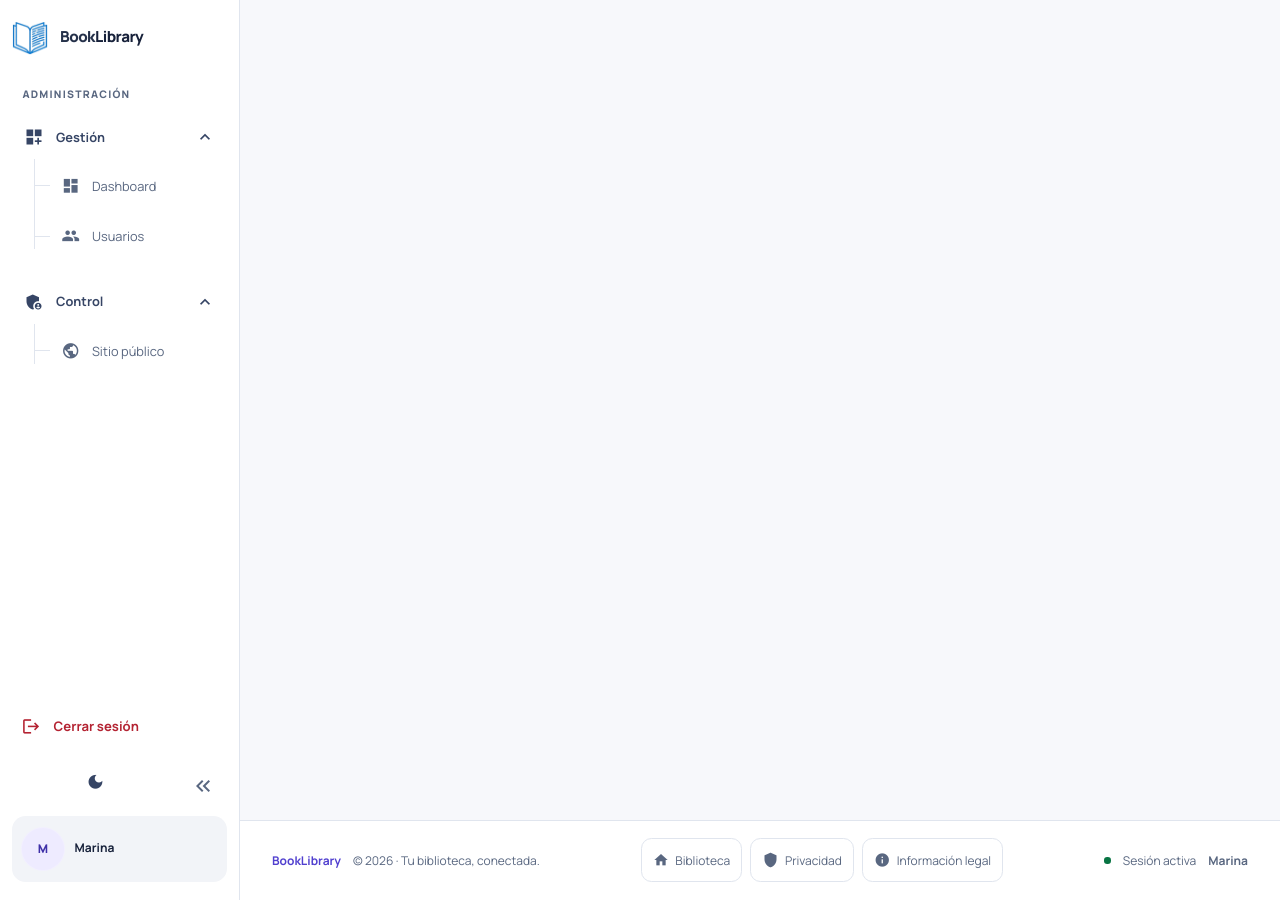
WorkspaceShellComponent › cancels logout without ending the session
Click the button with aria-label "Cerrar sesión".
click(120, 726)  # box [12,704,227,748]
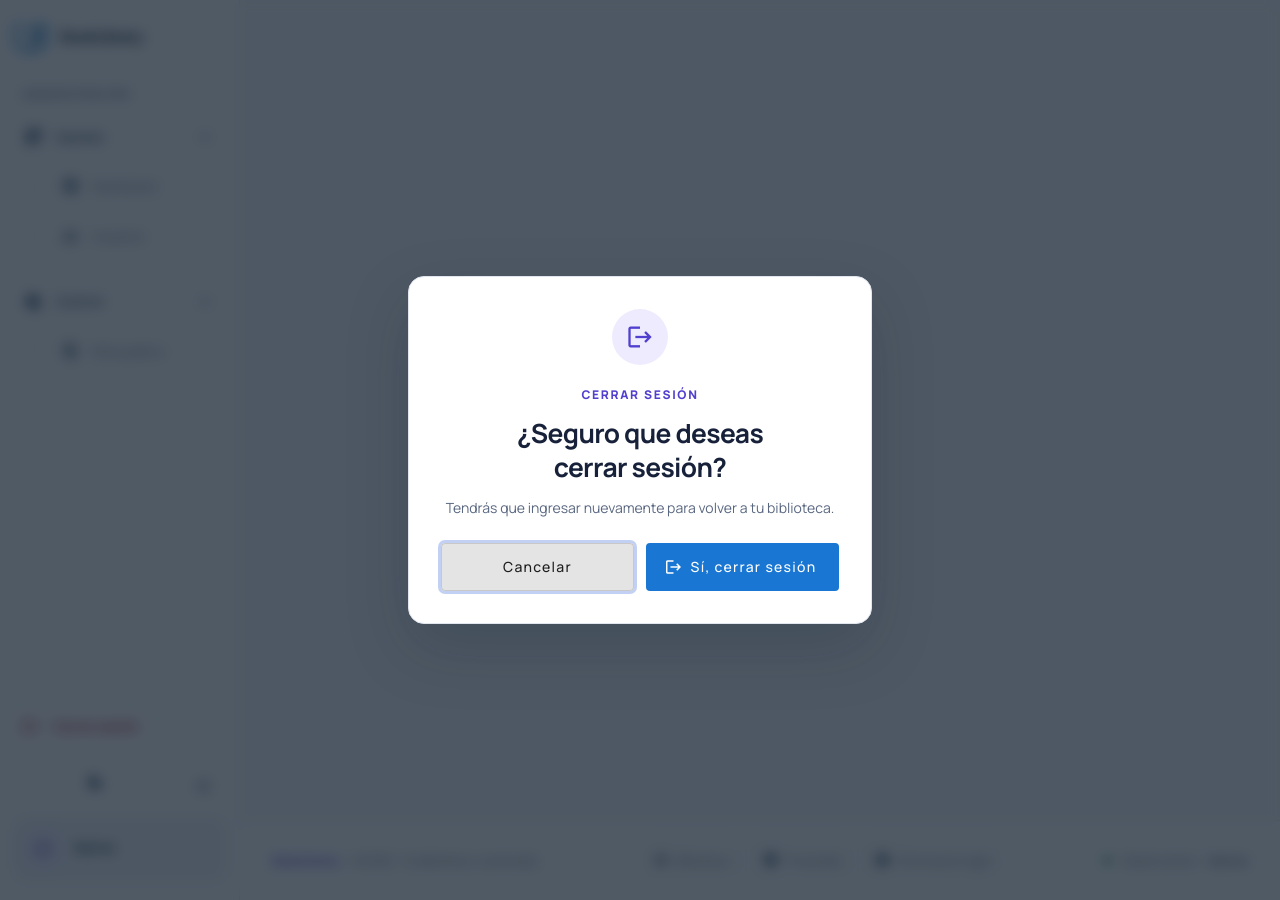
Click the button with class "logout-dialog__cancel".
click(538, 567)  # box [441,543,634,591]
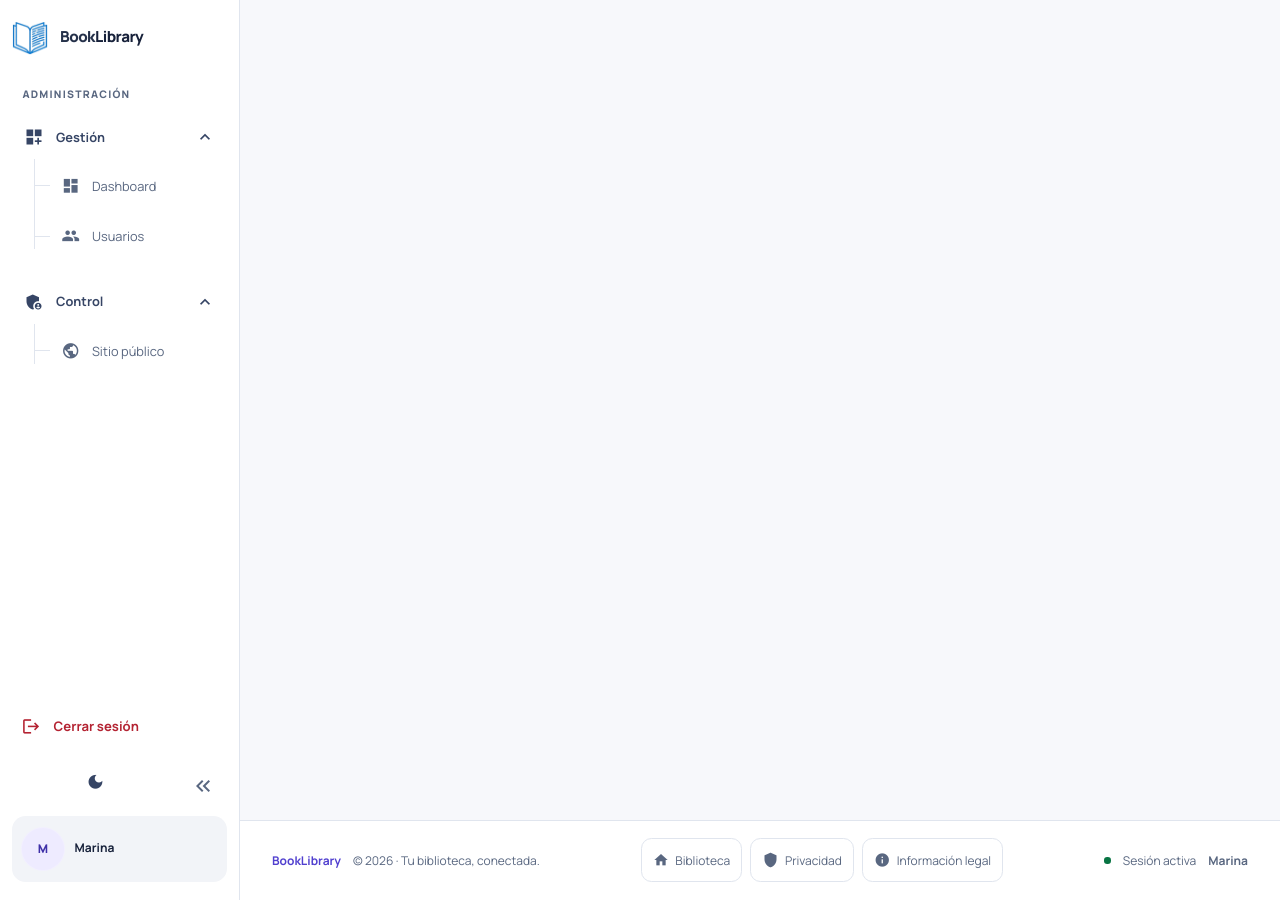
Result: the dialog with class "logout-dialog" is gone
